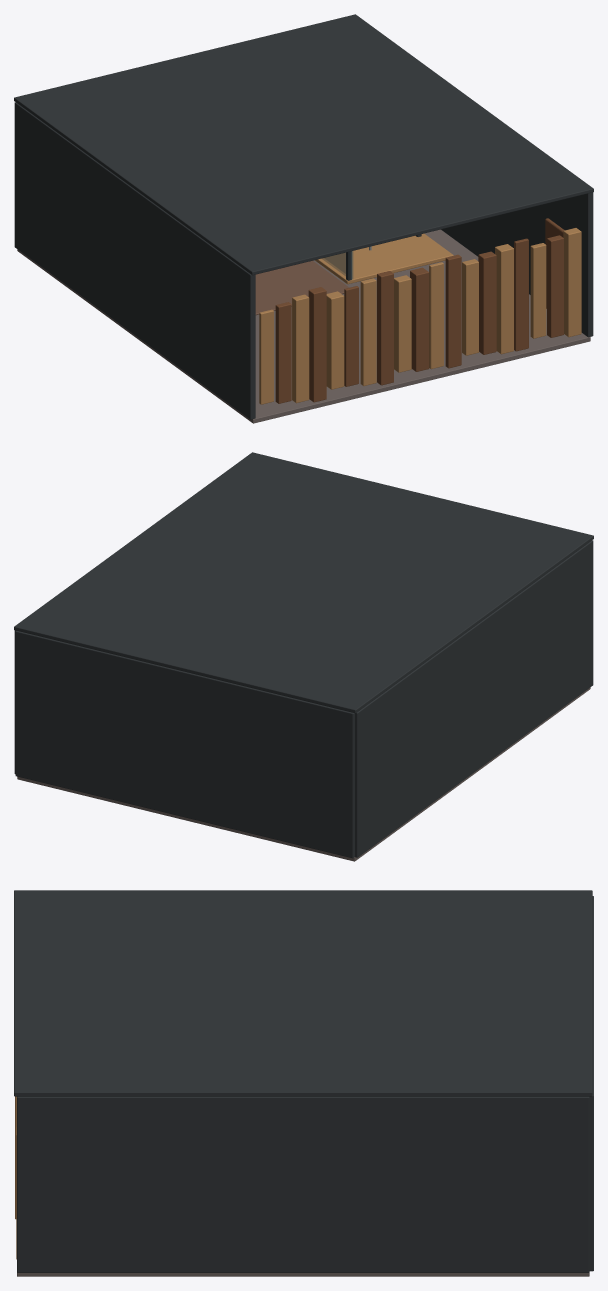
File: recording_room_001.glb
3 renders of one model, top to bottom at view 1: azimuth 30°, elevation 25°; view 2: azimuth 150°, elevation 25°; view 3: azimuth 270°, elevation 25°, orthographic. The views are drawn at different scales.
Parts seen in each view (by area): view 1: ceiling, left_acoustic_treatment, wood_floor, right_acoustic_treatment, vocal_booth_floor, live_room_rug, rear_diffuser_04, rear_diffuser_15, rear_diffuser_10, rear_diffuser_19, rear_diffuser_03, rear_diffuser_08 (+13 smaller); view 2: ceiling, front_acoustic_wall, left_acoustic_treatment, wood_floor; view 3: ceiling, right_acoustic_treatment, wood_floor, front_acoustic_wall.
Boxes of the visible parts, x1,y1,x2,y2 form: ceiling: [14, 14, 593, 275]; left_acoustic_treatment: [14, 102, 255, 419]; wood_floor: [17, 229, 590, 423]; right_acoustic_treatment: [441, 192, 593, 337]; vocal_booth_floor: [315, 233, 453, 284]; live_room_rug: [255, 260, 348, 315]; rear_diffuser_04: [308, 287, 326, 402]; rear_diffuser_15: [495, 244, 513, 354]; rear_diffuser_10: [410, 267, 429, 371]; rear_diffuser_19: [563, 228, 581, 337]; rear_diffuser_03: [292, 294, 309, 403]; rear_diffuser_08: [377, 271, 393, 385]; ceiling: [14, 452, 593, 713]; front_acoustic_wall: [15, 630, 354, 858]; left_acoustic_treatment: [355, 540, 593, 857]; wood_floor: [17, 687, 590, 861]; ceiling: [14, 890, 592, 1096]; right_acoustic_treatment: [17, 1096, 589, 1272]; wood_floor: [17, 1272, 589, 1276]; front_acoustic_wall: [589, 896, 593, 1271].
Bounding box in the file's own units: 9.66 × 4.16 × 11.65.
